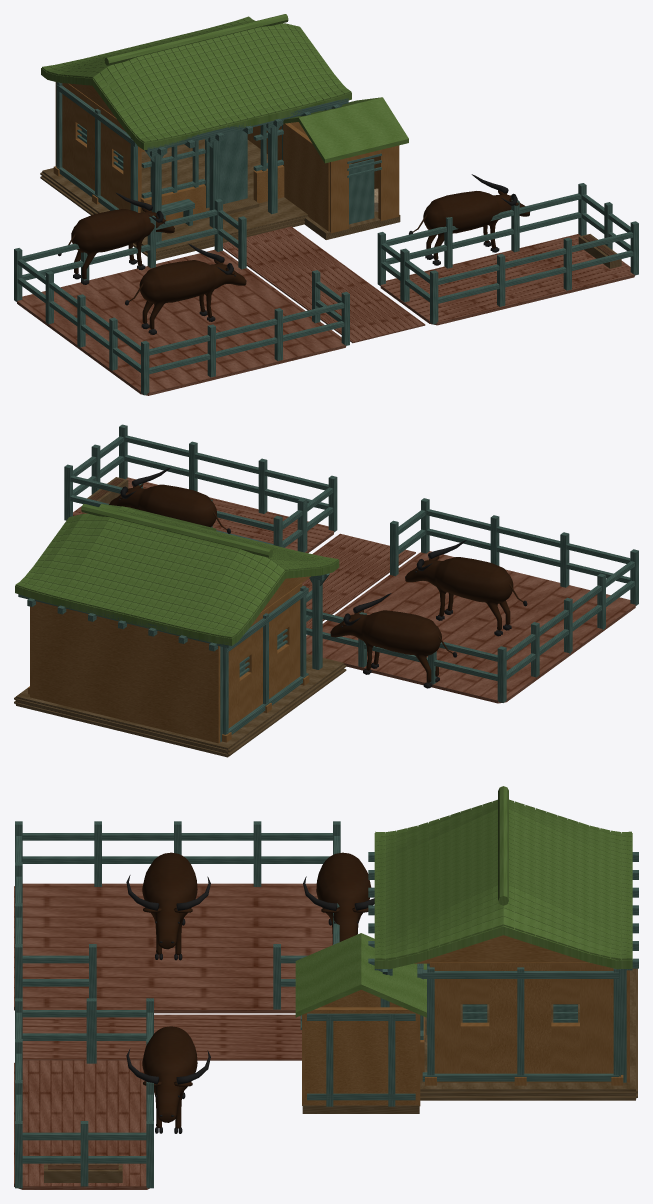
3 views of the same model, one above another, from view 1: azimuth 30°, elevation 25°; view 2: azimuth 150°, elevation 25°; view 3: azimuth 270°, elevation 25° (orthographic). The views are drawn at different scales.
Visible parts, largest first — view 1: garrison_part_0001, garrison_part_0000; view 2: garrison_part_0001, garrison_part_0000; view 3: garrison_part_0001, garrison_part_0000.
Part boxes in pixels (x1,y1,x2,y2): garrison_part_0001: (14, 14, 638, 395); garrison_part_0000: (17, 139, 634, 395); garrison_part_0001: (15, 424, 638, 743); garrison_part_0000: (14, 477, 635, 757); garrison_part_0001: (15, 786, 638, 1188); garrison_part_0000: (14, 883, 637, 1189).
Size of the model in its own units: 1500 by 457 by 1309.
Materials: 1 (1 with a texture image).
